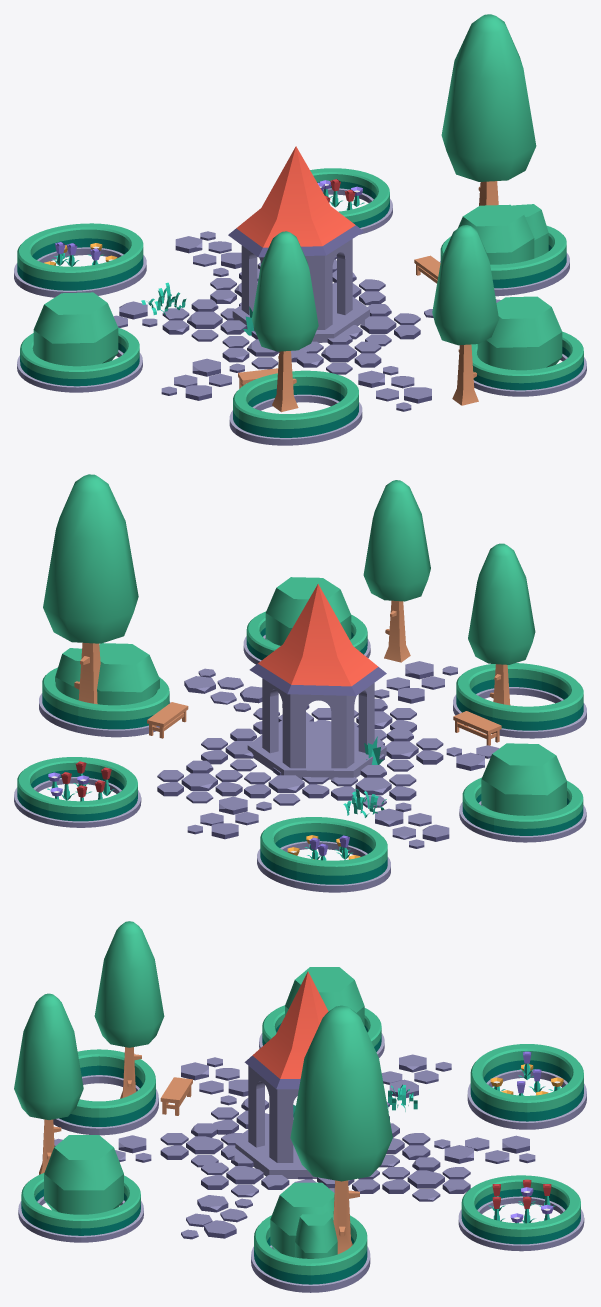
The model's file is garden.glb.
The picture shows the model from 3 angles, top to bottom: view 1: azimuth 30°, elevation 25°; view 2: azimuth 150°, elevation 25°; view 3: azimuth 270°, elevation 25°; orthographic projection. The views are drawn at different scales.
Parts seen in each view (by area): view 1: mergedBlocks(Clone); view 2: mergedBlocks(Clone); view 3: mergedBlocks(Clone).
Part boxes in pixels (box(x1,y1,x2,y2)): mergedBlocks(Clone): box(14, 14, 586, 445); mergedBlocks(Clone): box(14, 474, 586, 892); mergedBlocks(Clone): box(14, 921, 586, 1292).
Bounding box in the file's own units: 1.28 × 0.5681 × 1.14.
